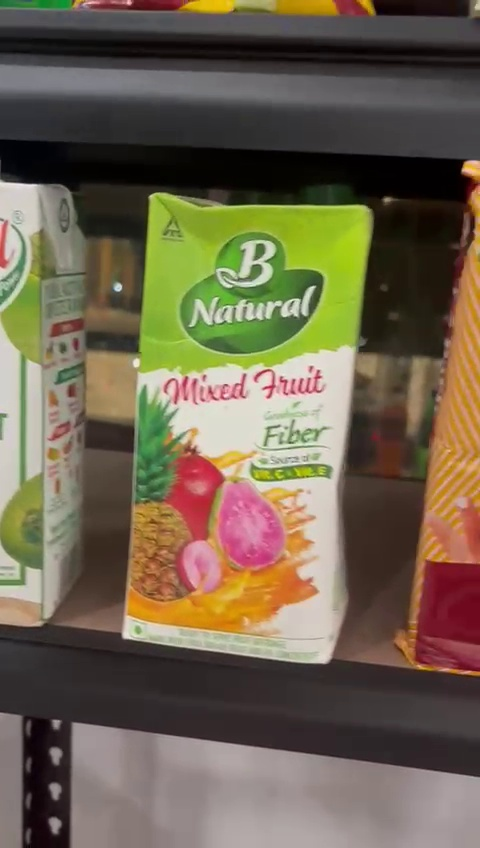Mixed Fruit: (126, 198, 353, 639)
